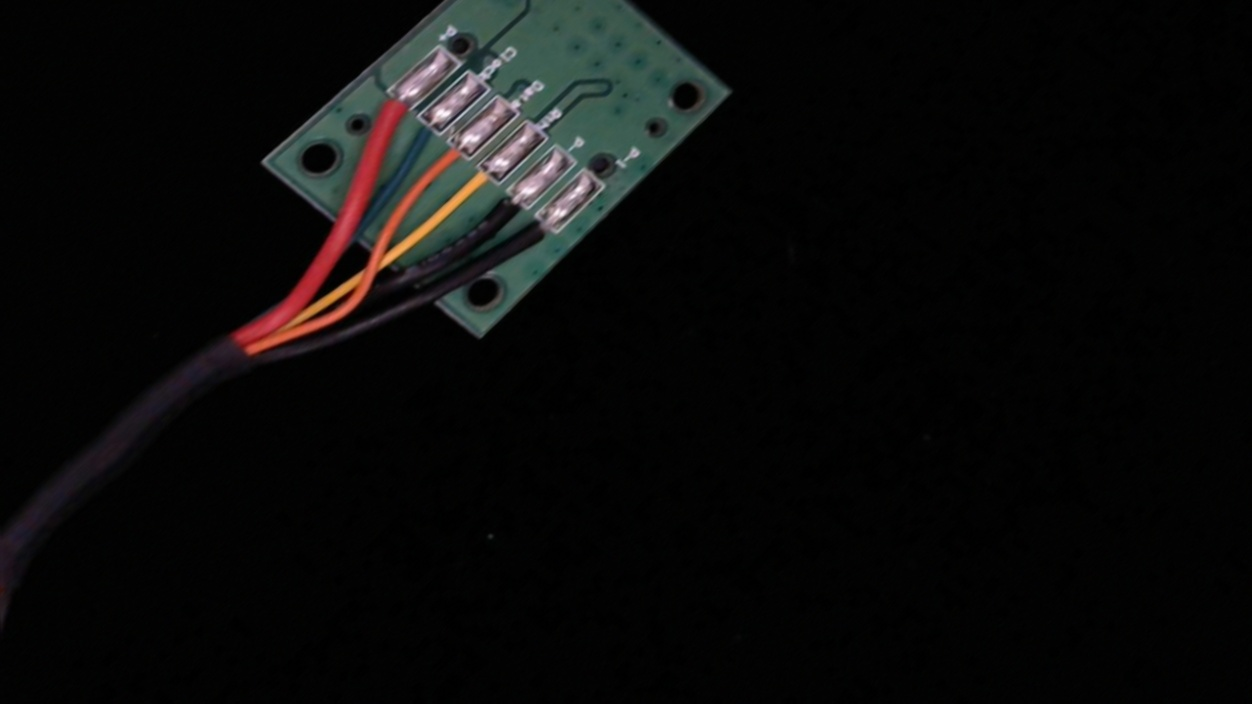Black: (458, 173, 548, 250)
Black1: (493, 202, 577, 275)
Green: (386, 100, 463, 163)
Orange: (404, 125, 492, 199)
Red: (349, 77, 427, 141)
Yellow: (430, 149, 521, 226)
